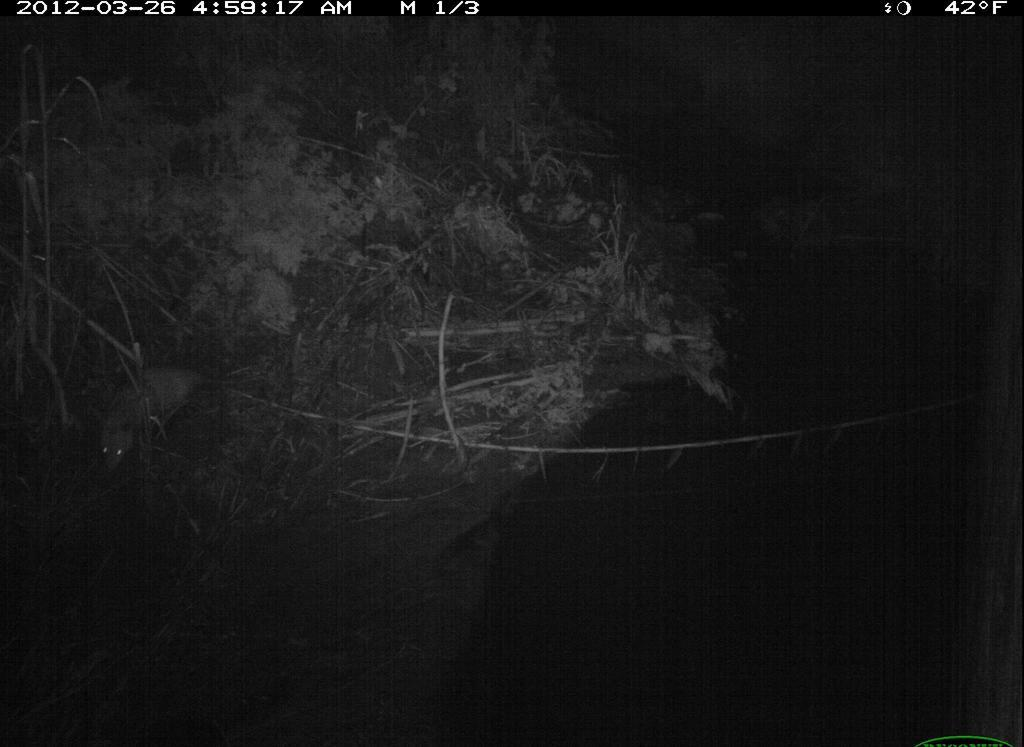opossum: (90, 353, 278, 487)
